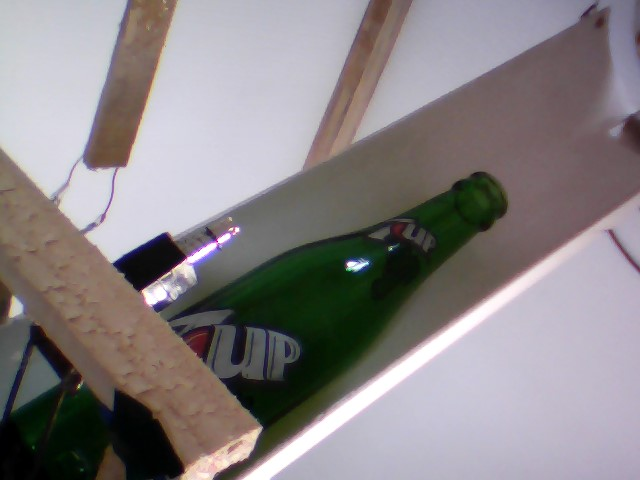vidrio: (163, 160, 518, 421)
